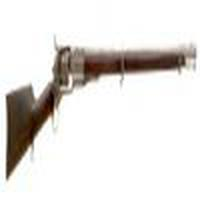gun: (4, 44, 196, 170)
